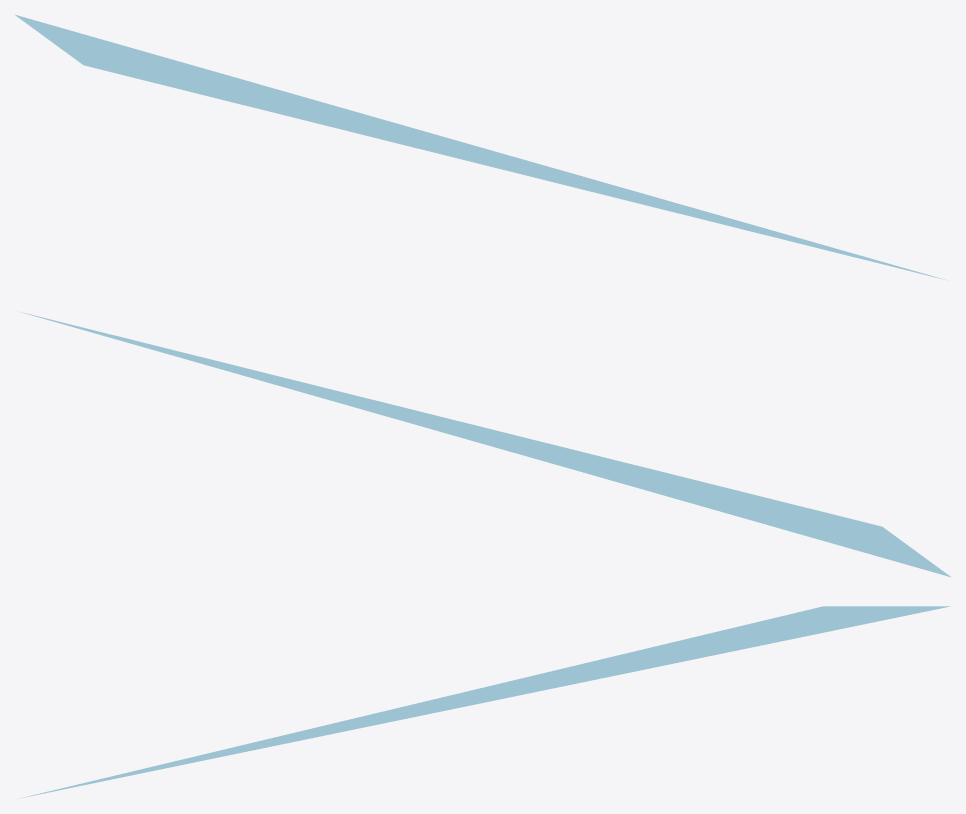
Rendered from terrain-context-C-x-3-z-1.glb.
The picture shows the model from 3 angles, top to bottom: view 1: azimuth 30°, elevation 25°; view 2: azimuth 210°, elevation 25°; view 3: azimuth 270°, elevation 25°; orthographic projection. The views are drawn at different scales.
Parts seen in each view (by area): view 1: C-x-3-z-1; view 2: C-x-3-z-1; view 3: C-x-3-z-1.
Boxes of the visible parts, bbox=[...] form: C-x-3-z-1: bbox=[14, 14, 946, 280]; C-x-3-z-1: bbox=[19, 311, 951, 577]; C-x-3-z-1: bbox=[19, 606, 950, 798].
Size of the model in its own units: 6.78 by 1.91e-06 by 13.89.
